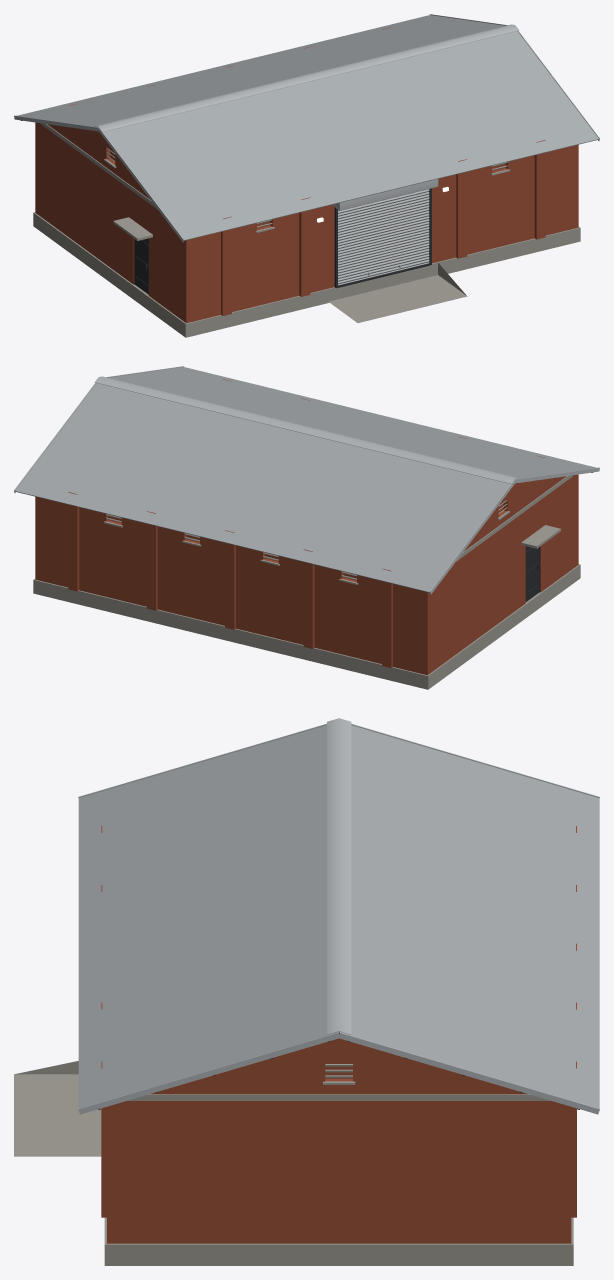
The model's file is godown.glb.
The picture shows the model from 3 angles, top to bottom: view 1: azimuth 30°, elevation 25°; view 2: azimuth 150°, elevation 25°; view 3: azimuth 270°, elevation 25°; orthographic projection. The views are drawn at different scales.
Parts seen in each view (by area): view 1: godown; view 2: godown; view 3: godown.
Part boxes in pixels (x1,y1,x2,y2): godown: [14, 14, 599, 337]; godown: [14, 366, 599, 689]; godown: [14, 718, 599, 1265].
Size of the model in its own units: 16.07 by 5.77 by 12.62.
